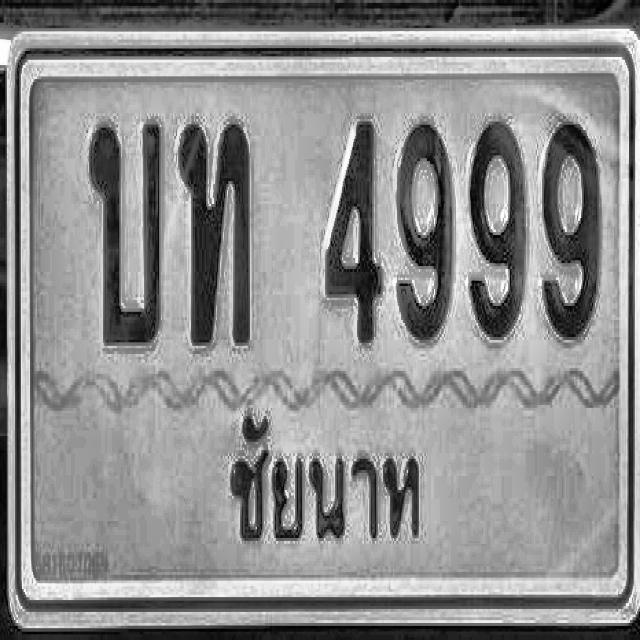license-plate: (6, 30, 640, 630)
